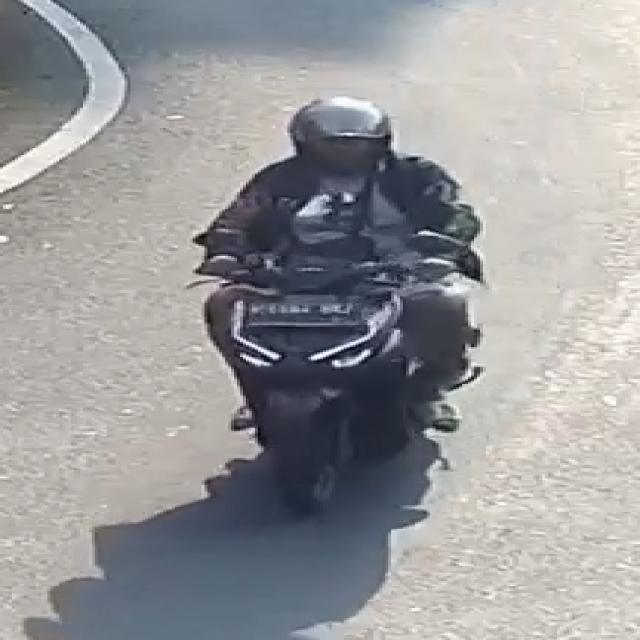helm: (269, 84, 442, 180)
motor: (168, 90, 509, 522)
spion: (326, 219, 474, 281), (168, 219, 272, 282)
